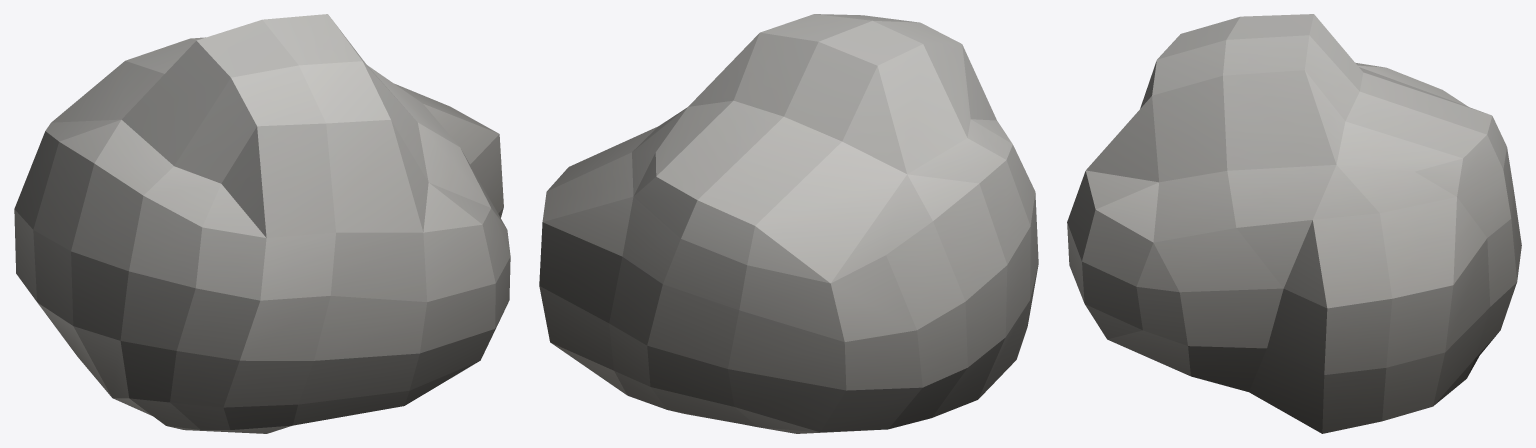
File: Rock_Boulder_B.fbx
3 views of the same model, side by side, from view 1: azimuth 30°, elevation 25°; view 2: azimuth 150°, elevation 25°; view 3: azimuth 270°, elevation 25° (orthographic). The views are drawn at different scales.
Visible parts, largest first — view 1: Rock_Boulder_B; view 2: Rock_Boulder_B; view 3: Rock_Boulder_B.
Part boxes in pixels (x1,y1,x2,y2): Rock_Boulder_B: (14,14,510,433); Rock_Boulder_B: (539,14,1038,433); Rock_Boulder_B: (1067,14,1521,433).
Size of the model in its own units: 687 by 559 by 676.
